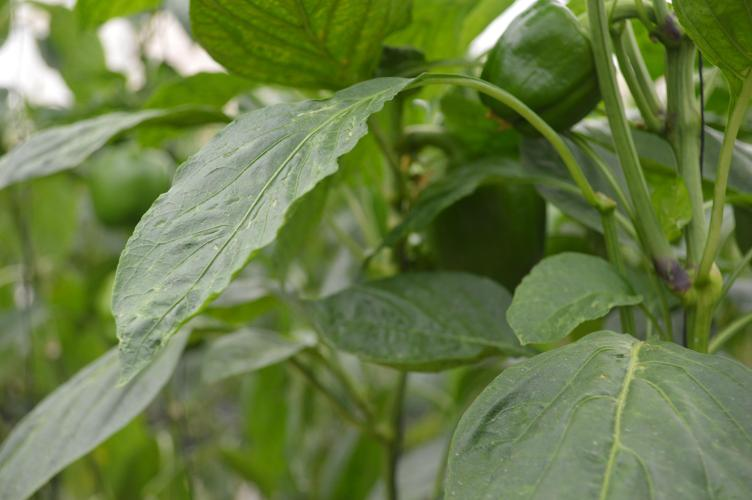BellPepper: (474, 3, 599, 131), (420, 170, 540, 280)
